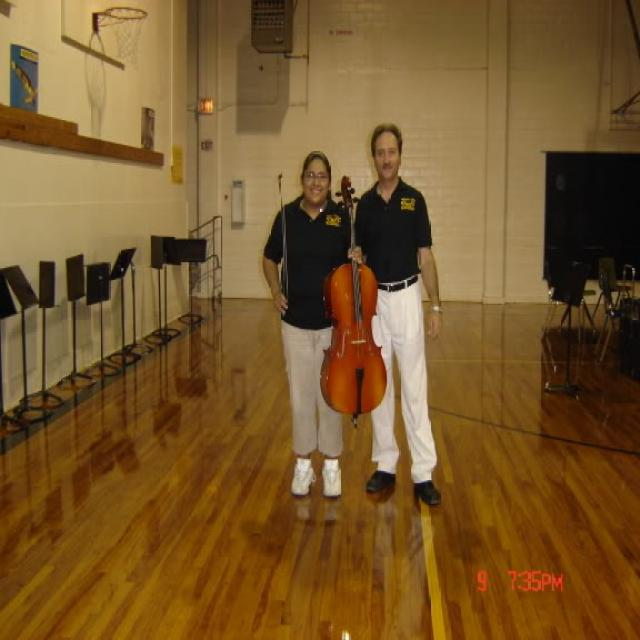cello: (322, 175, 391, 419)
